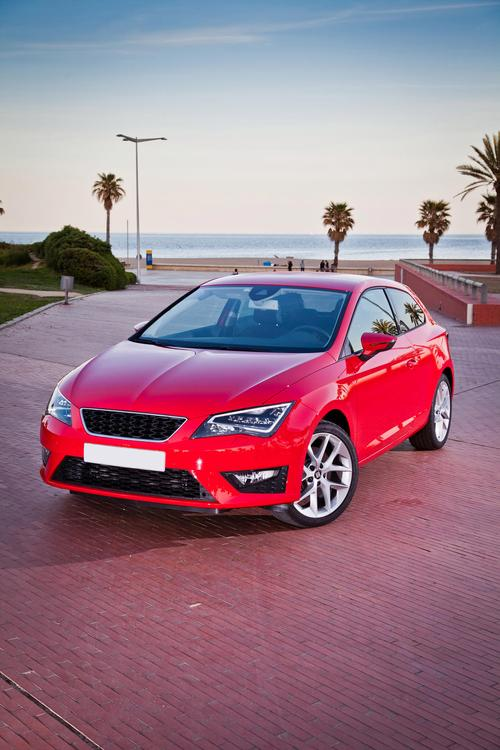汽车: (35, 267, 472, 534)
